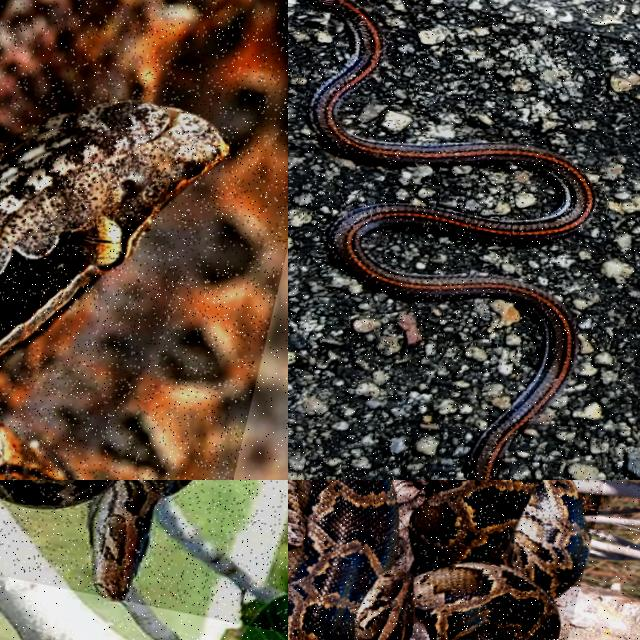Calliophis intestinalis: (308, 0, 593, 479)
Calloselasma rhodostoma: (0, 0, 287, 479)
Python bivittatus: (288, 480, 588, 639), (0, 480, 189, 599)
snake: (0, 0, 287, 479), (308, 0, 593, 479), (288, 480, 588, 639), (0, 480, 189, 599)
